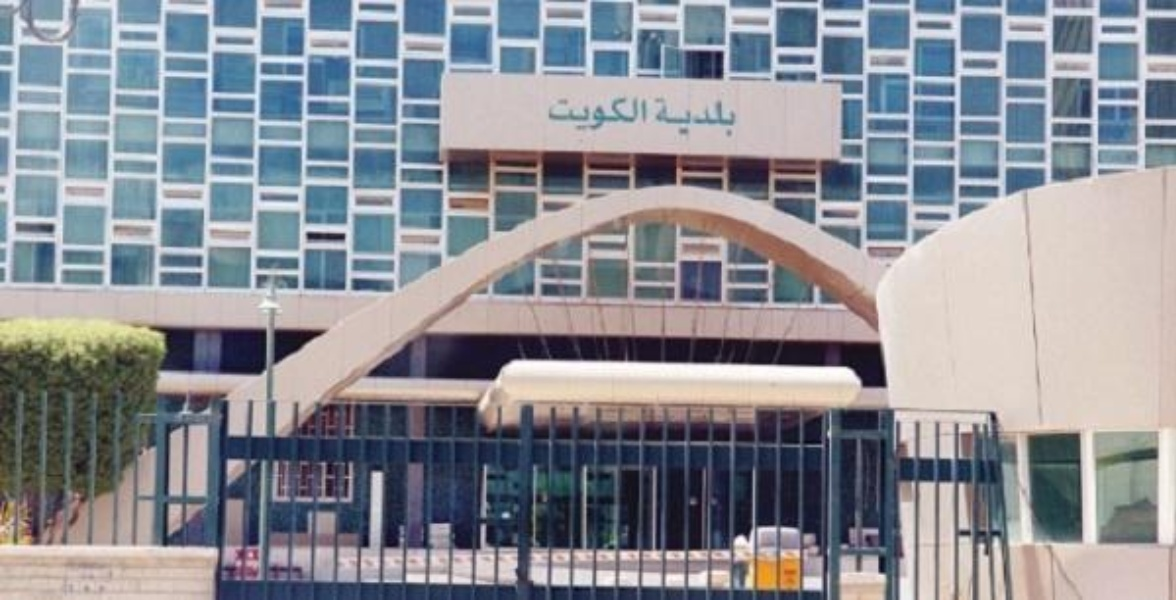text: (657, 95, 672, 140), (673, 95, 688, 140), (689, 95, 704, 140), (705, 95, 720, 140), (721, 95, 736, 140), (561, 93, 576, 134), (577, 93, 592, 134), (593, 93, 608, 134), (609, 93, 624, 134), (625, 93, 640, 134), (547, 93, 560, 134), (641, 93, 649, 134), (653, 95, 656, 140), (737, 95, 739, 140)
